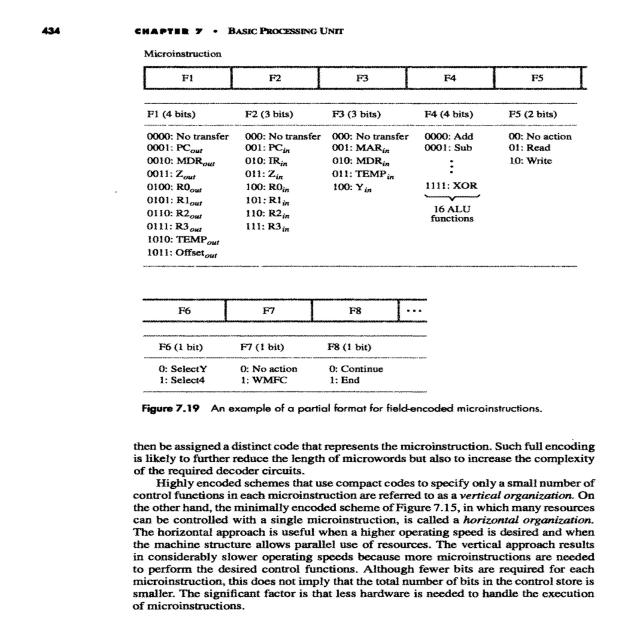diagram: (94, 43, 636, 423)
